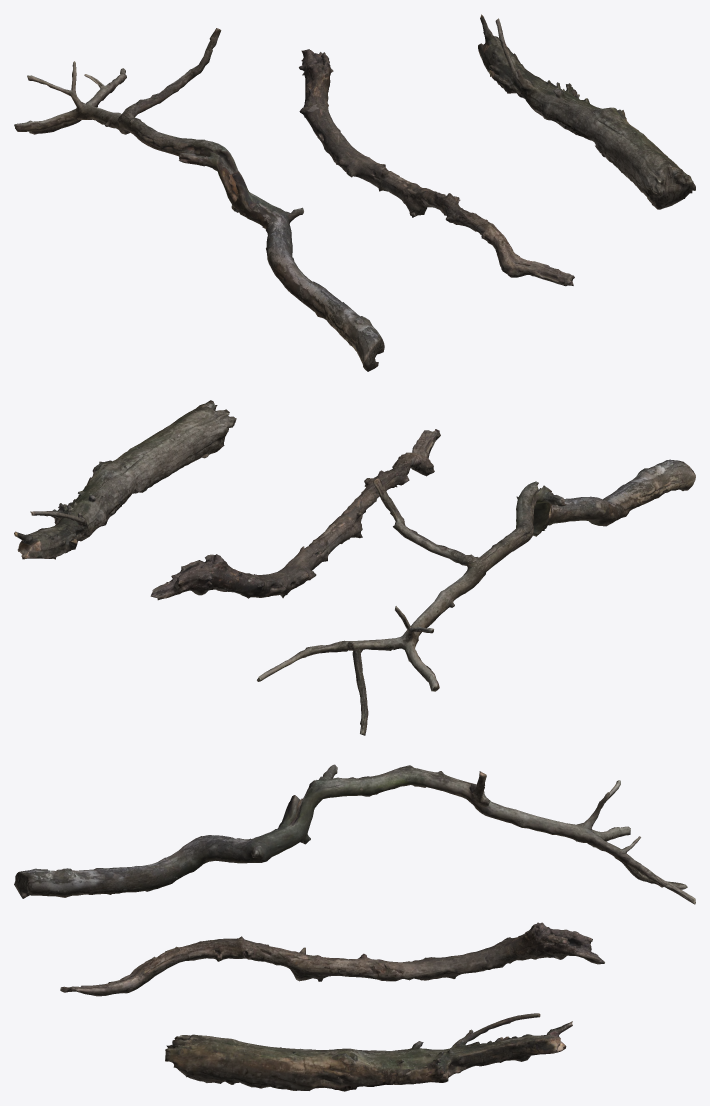
The model's file is dry_branches_medium_01.gltf.
3 renders of one model, top to bottom at view 1: azimuth 30°, elevation 25°; view 2: azimuth 150°, elevation 25°; view 3: azimuth 270°, elevation 25°, orthographic. The views are drawn at different scales.
Visible parts, largest first — view 1: dry_branches_medium_01_a, dry_branches_medium_01_c, dry_branches_medium_01_b; view 2: dry_branches_medium_01_a, dry_branches_medium_01_c, dry_branches_medium_01_b; view 3: dry_branches_medium_01_a, dry_branches_medium_01_c, dry_branches_medium_01_b.
Boxes of the visible parts, x1,y1,x2,y2 form: dry_branches_medium_01_a: (14, 28, 384, 371); dry_branches_medium_01_c: (478, 14, 695, 209); dry_branches_medium_01_b: (299, 49, 574, 286); dry_branches_medium_01_a: (257, 459, 695, 735); dry_branches_medium_01_c: (14, 400, 236, 559); dry_branches_medium_01_b: (150, 429, 440, 600); dry_branches_medium_01_a: (14, 764, 695, 904); dry_branches_medium_01_c: (165, 1013, 572, 1091); dry_branches_medium_01_b: (60, 922, 604, 996).
Size of the model in its own units: 1.06 by 0.341 by 1.3.
Materials: 1 (1 with a texture image).
